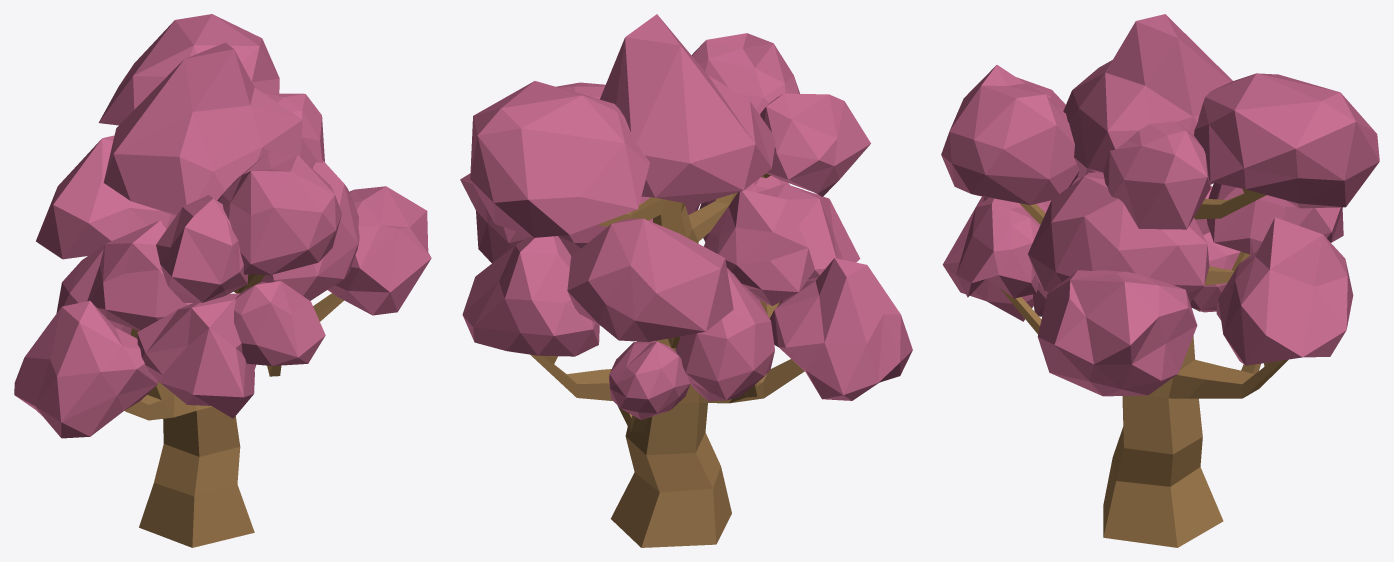
File: Tree_11.fbx
3 renders of one model, left to right at view 1: azimuth 30°, elevation 25°; view 2: azimuth 150°, elevation 25°; view 3: azimuth 270°, elevation 25°, orthographic. The views are drawn at different scales.
Parts seen in each view (by area): view 1: Tree_11; view 2: Tree_11; view 3: Tree_11.
Boxes of the visible parts, x1,y1,x2,y2 form: Tree_11: [14, 14, 431, 547]; Tree_11: [460, 14, 912, 547]; Tree_11: [941, 14, 1379, 547].
Bounding box in the file's own units: 374 × 417 × 323.
